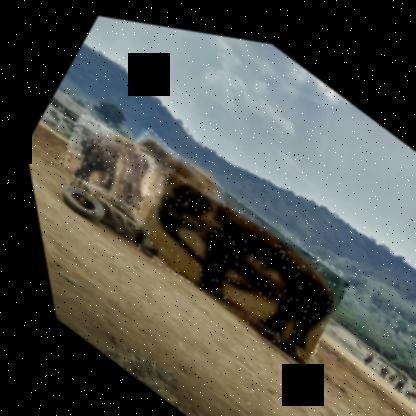Elephas-maximus: (108, 141, 353, 367), (41, 100, 164, 220), (102, 118, 225, 234)
